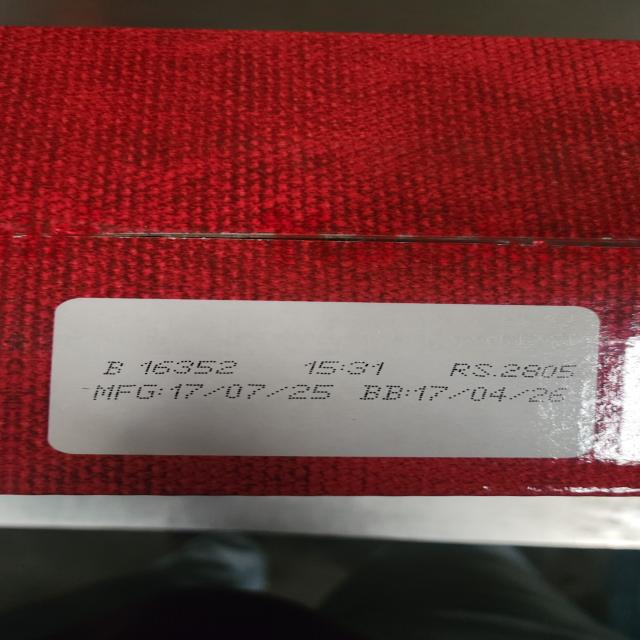BB: (361, 383, 568, 402)
Batch: (106, 360, 242, 374)
MFG: (94, 383, 336, 401)
RS: (450, 362, 580, 378)
TimeStamp: (304, 360, 389, 376)
